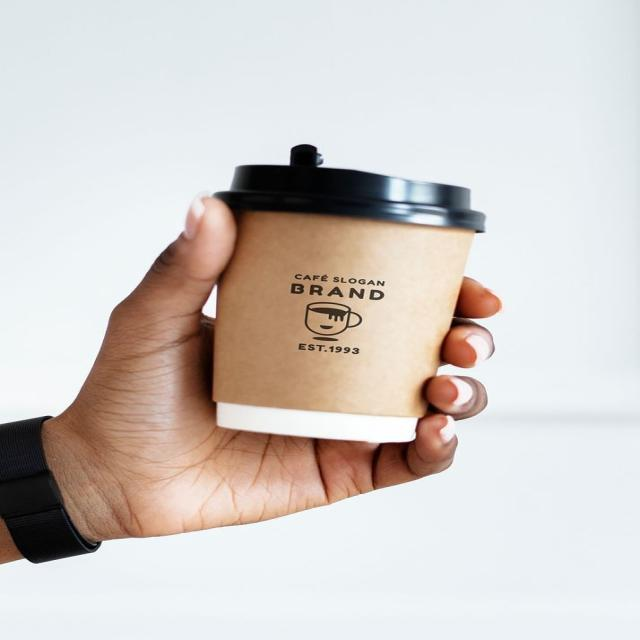paper cup: (212, 142, 486, 442)
